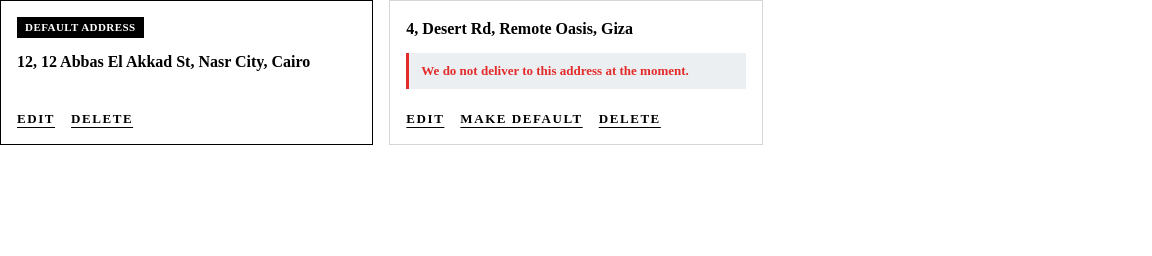
Test: AddressBook › makes an address the default and shows the address book the API answered
The width and height of the screenshot is (1152, 256).
Click the button "Make default": (522, 118) [460,108,583,128]
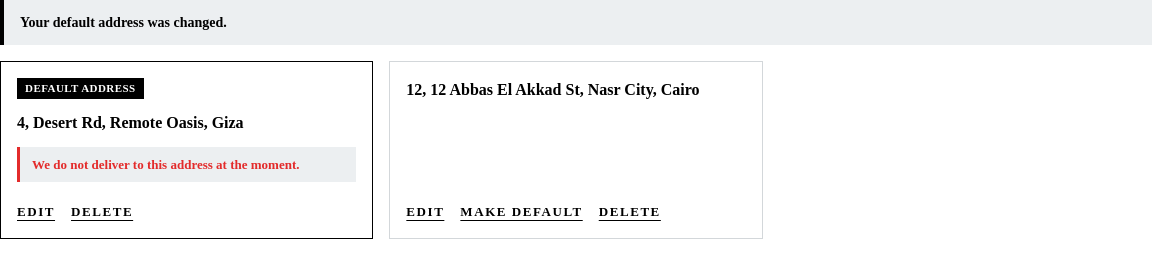
Expected: the element with test id "addresses-status" reads "Your default address was changed.", [20,15,227,30]
